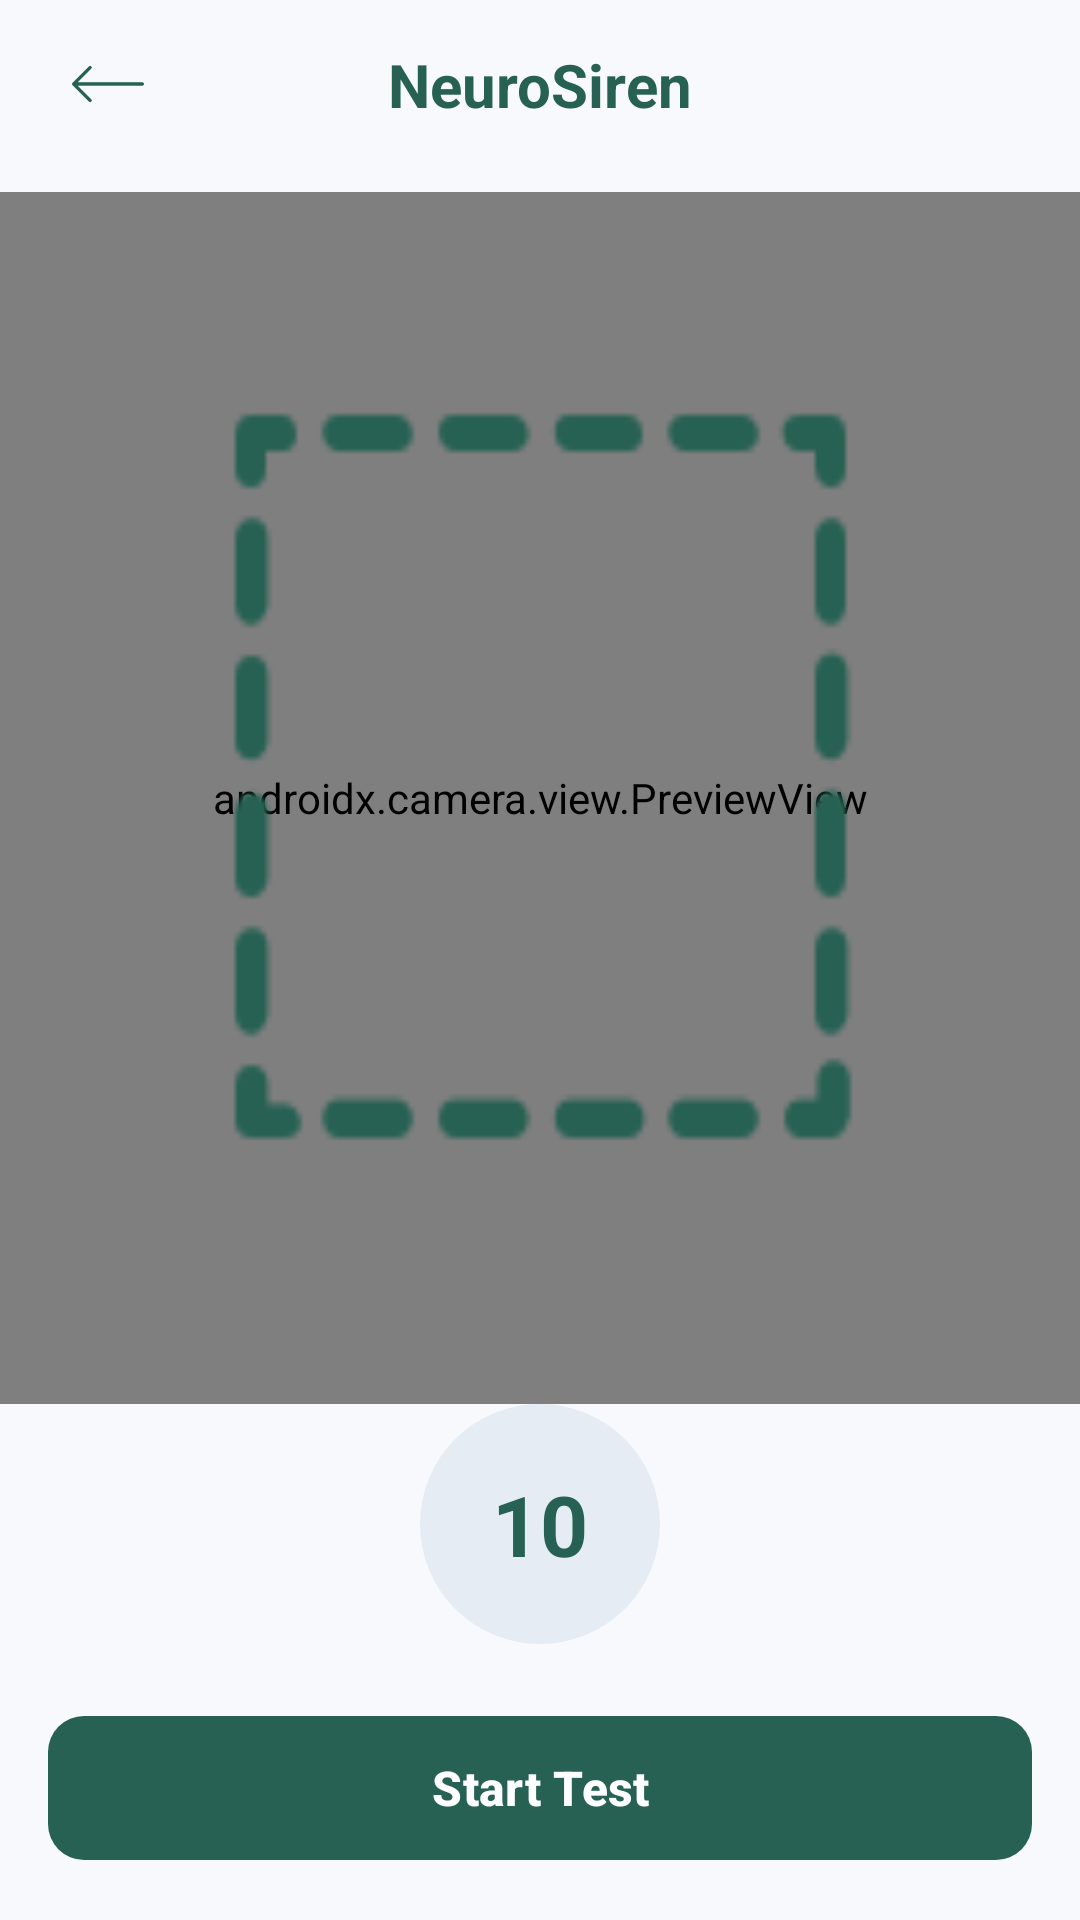

Screen size 1080*1920. Icon name, then its center in pixels as point (x, y):
left arrow: point (108, 84)
